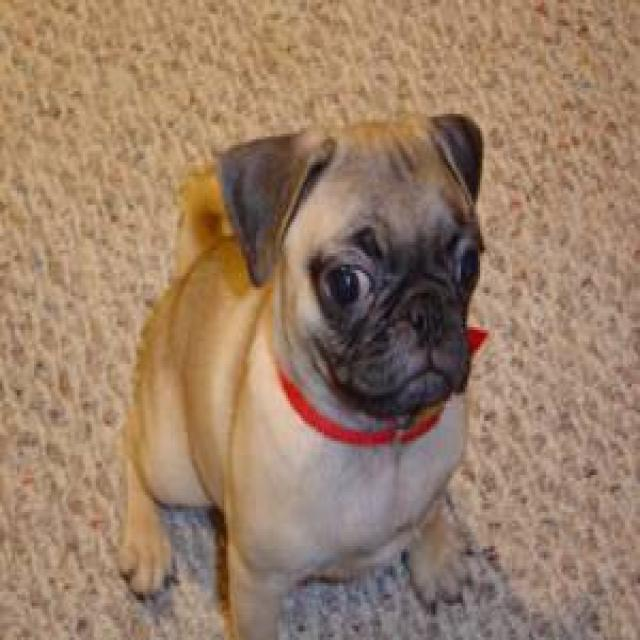dog-pug: (109, 102, 489, 634)
